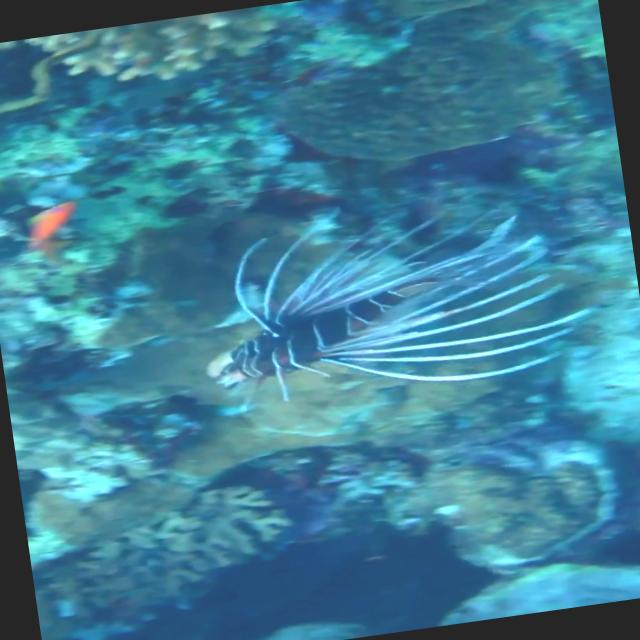Aslan Baligi: (192, 182, 615, 416)
